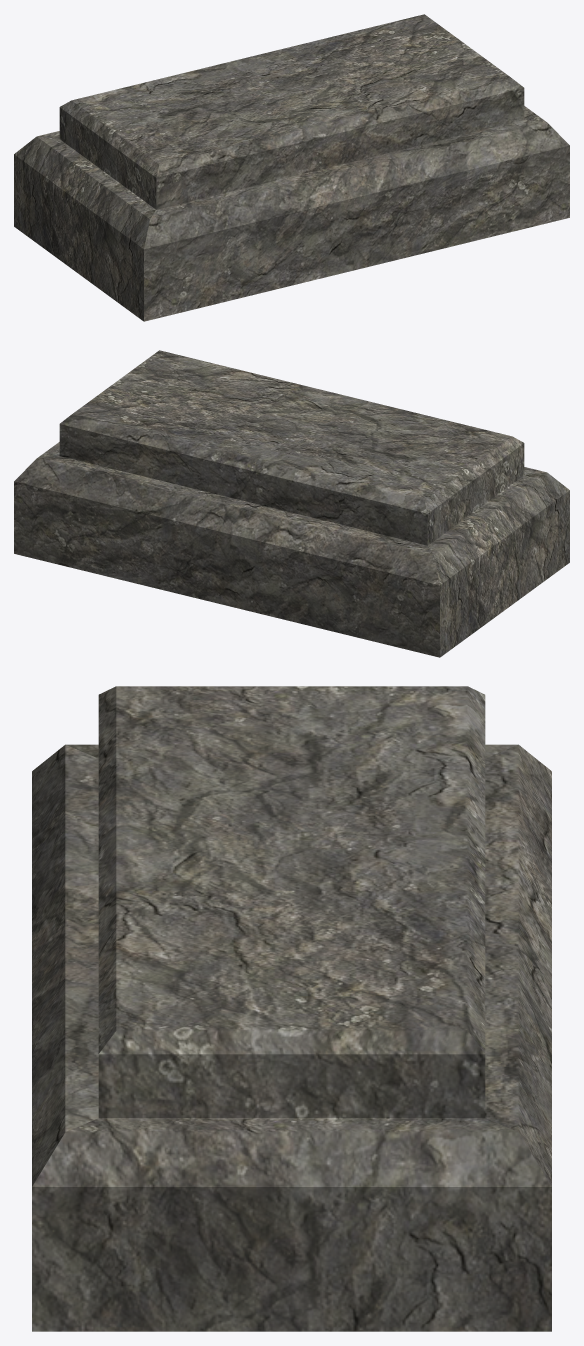
Rendered from Gravestones_Bottom_01.fbx.
3 renders of one model, top to bottom at view 1: azimuth 30°, elevation 25°; view 2: azimuth 150°, elevation 25°; view 3: azimuth 270°, elevation 25°, orthographic. The views are drawn at different scales.
Visible parts, largest first — view 1: pCube9; view 2: pCube9; view 3: pCube9.
Part boxes in pixels (x1,y1,x2,y2): pCube9: (14, 14, 569, 321); pCube9: (14, 350, 569, 657); pCube9: (32, 686, 551, 1331).
Size of the model in its own units: 0.9752 by 0.2903 by 0.5153.
